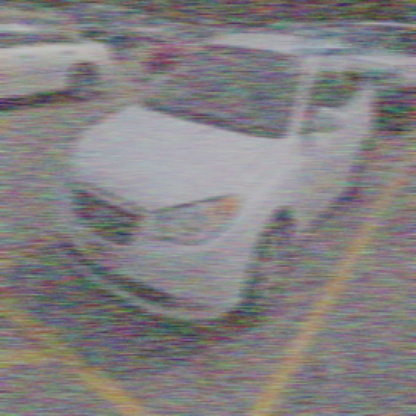Vehicle: (52, 26, 378, 331)
